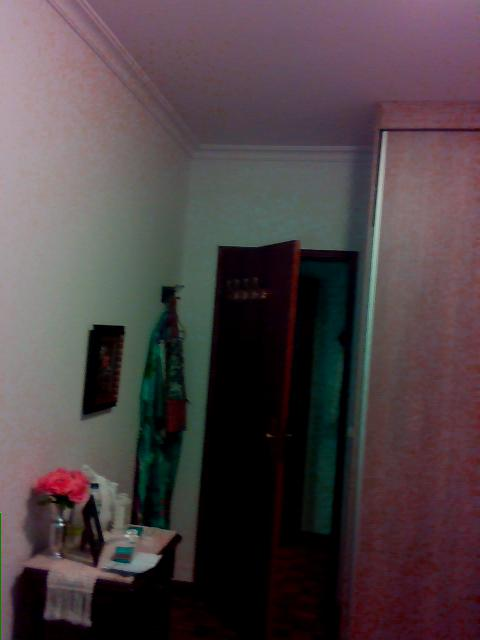semi_door: (193, 233, 362, 639)
